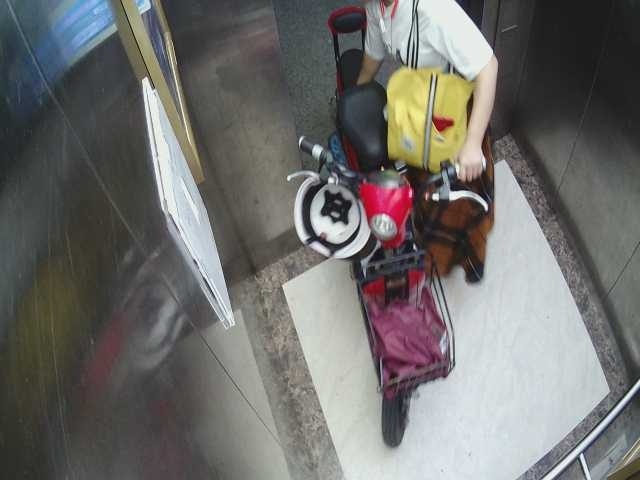emotor: (300, 9, 463, 433)
